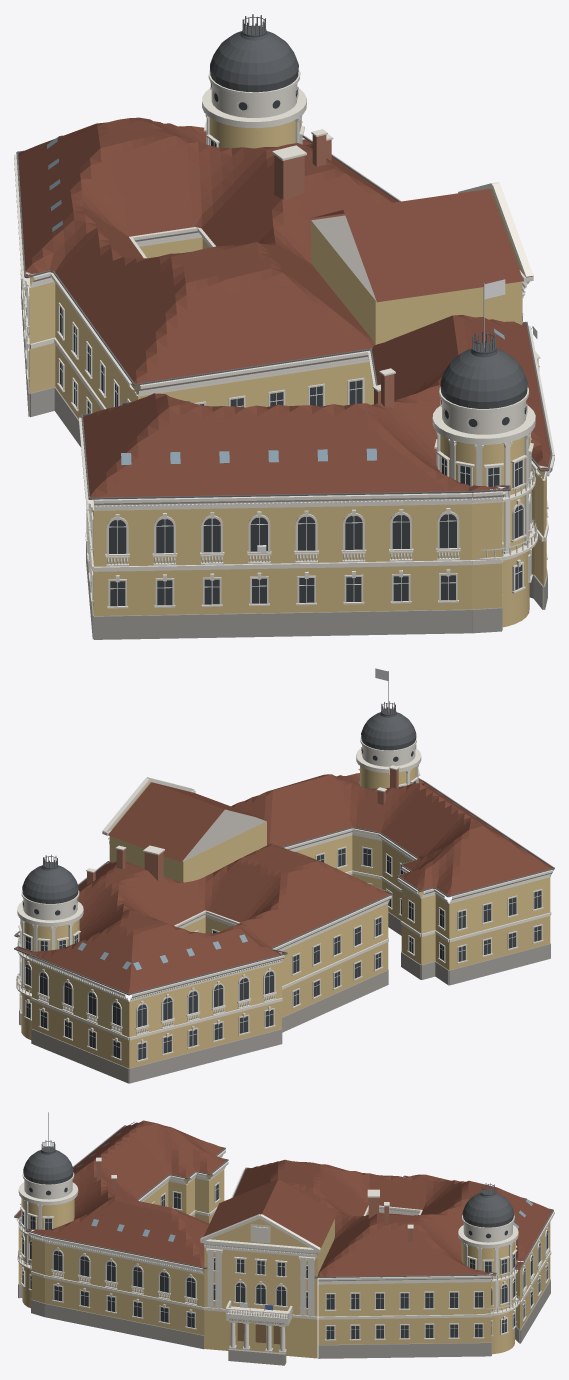
The model's file is bas.glb.
3 renders of one model, top to bottom at view 1: azimuth 30°, elevation 25°; view 2: azimuth 150°, elevation 25°; view 3: azimuth 270°, elevation 25°, orthographic. The views are drawn at different scales.
Parts seen in each view (by area): view 1: bas; view 2: bas; view 3: bas.
Part boxes in pixels (x1,y1,x2,y2): bas: [14, 14, 554, 639]; bas: [14, 668, 554, 1083]; bas: [14, 1112, 554, 1365].
Bounding box in the file's own units: 58.12 × 32.25 × 84.16.
